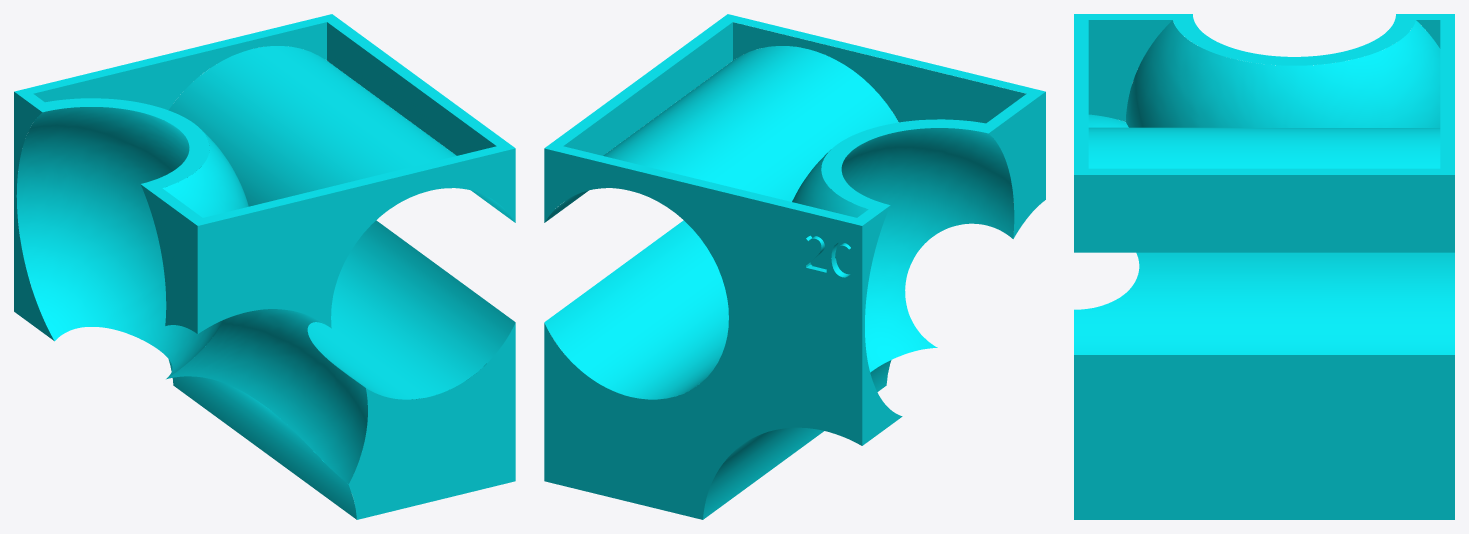
3 views of the same model, side by side, from view 1: azimuth 30°, elevation 25°; view 2: azimuth 150°, elevation 25°; view 3: azimuth 270°, elevation 25° (orthographic). The views are drawn at different scales.
Parts seen in each view (by area): view 1: 70_vars_w-txt; view 2: 70_vars_w-txt; view 3: 70_vars_w-txt.
Boxes of the visible parts, x1,y1,x2,y2 form: 70_vars_w-txt: (14, 14, 515, 519); 70_vars_w-txt: (544, 14, 1045, 519); 70_vars_w-txt: (1074, 14, 1454, 519).
Size of the model in its own units: 0.042 by 0.042 by 0.042.
